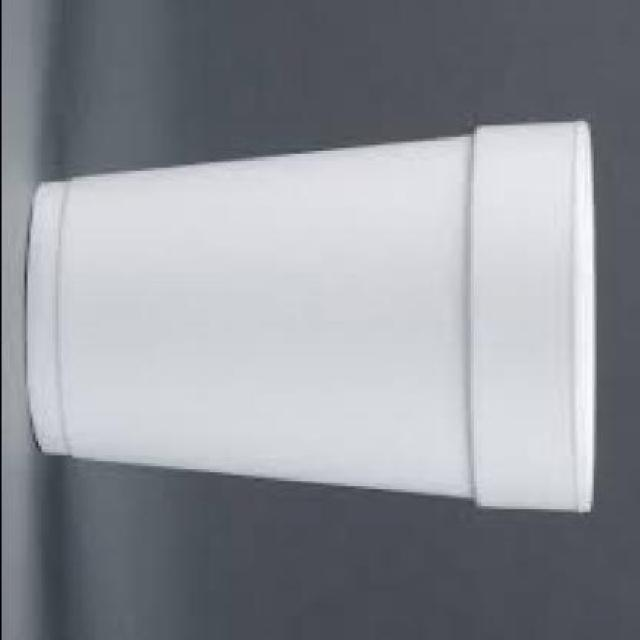PAPER: (22, 117, 601, 512)
